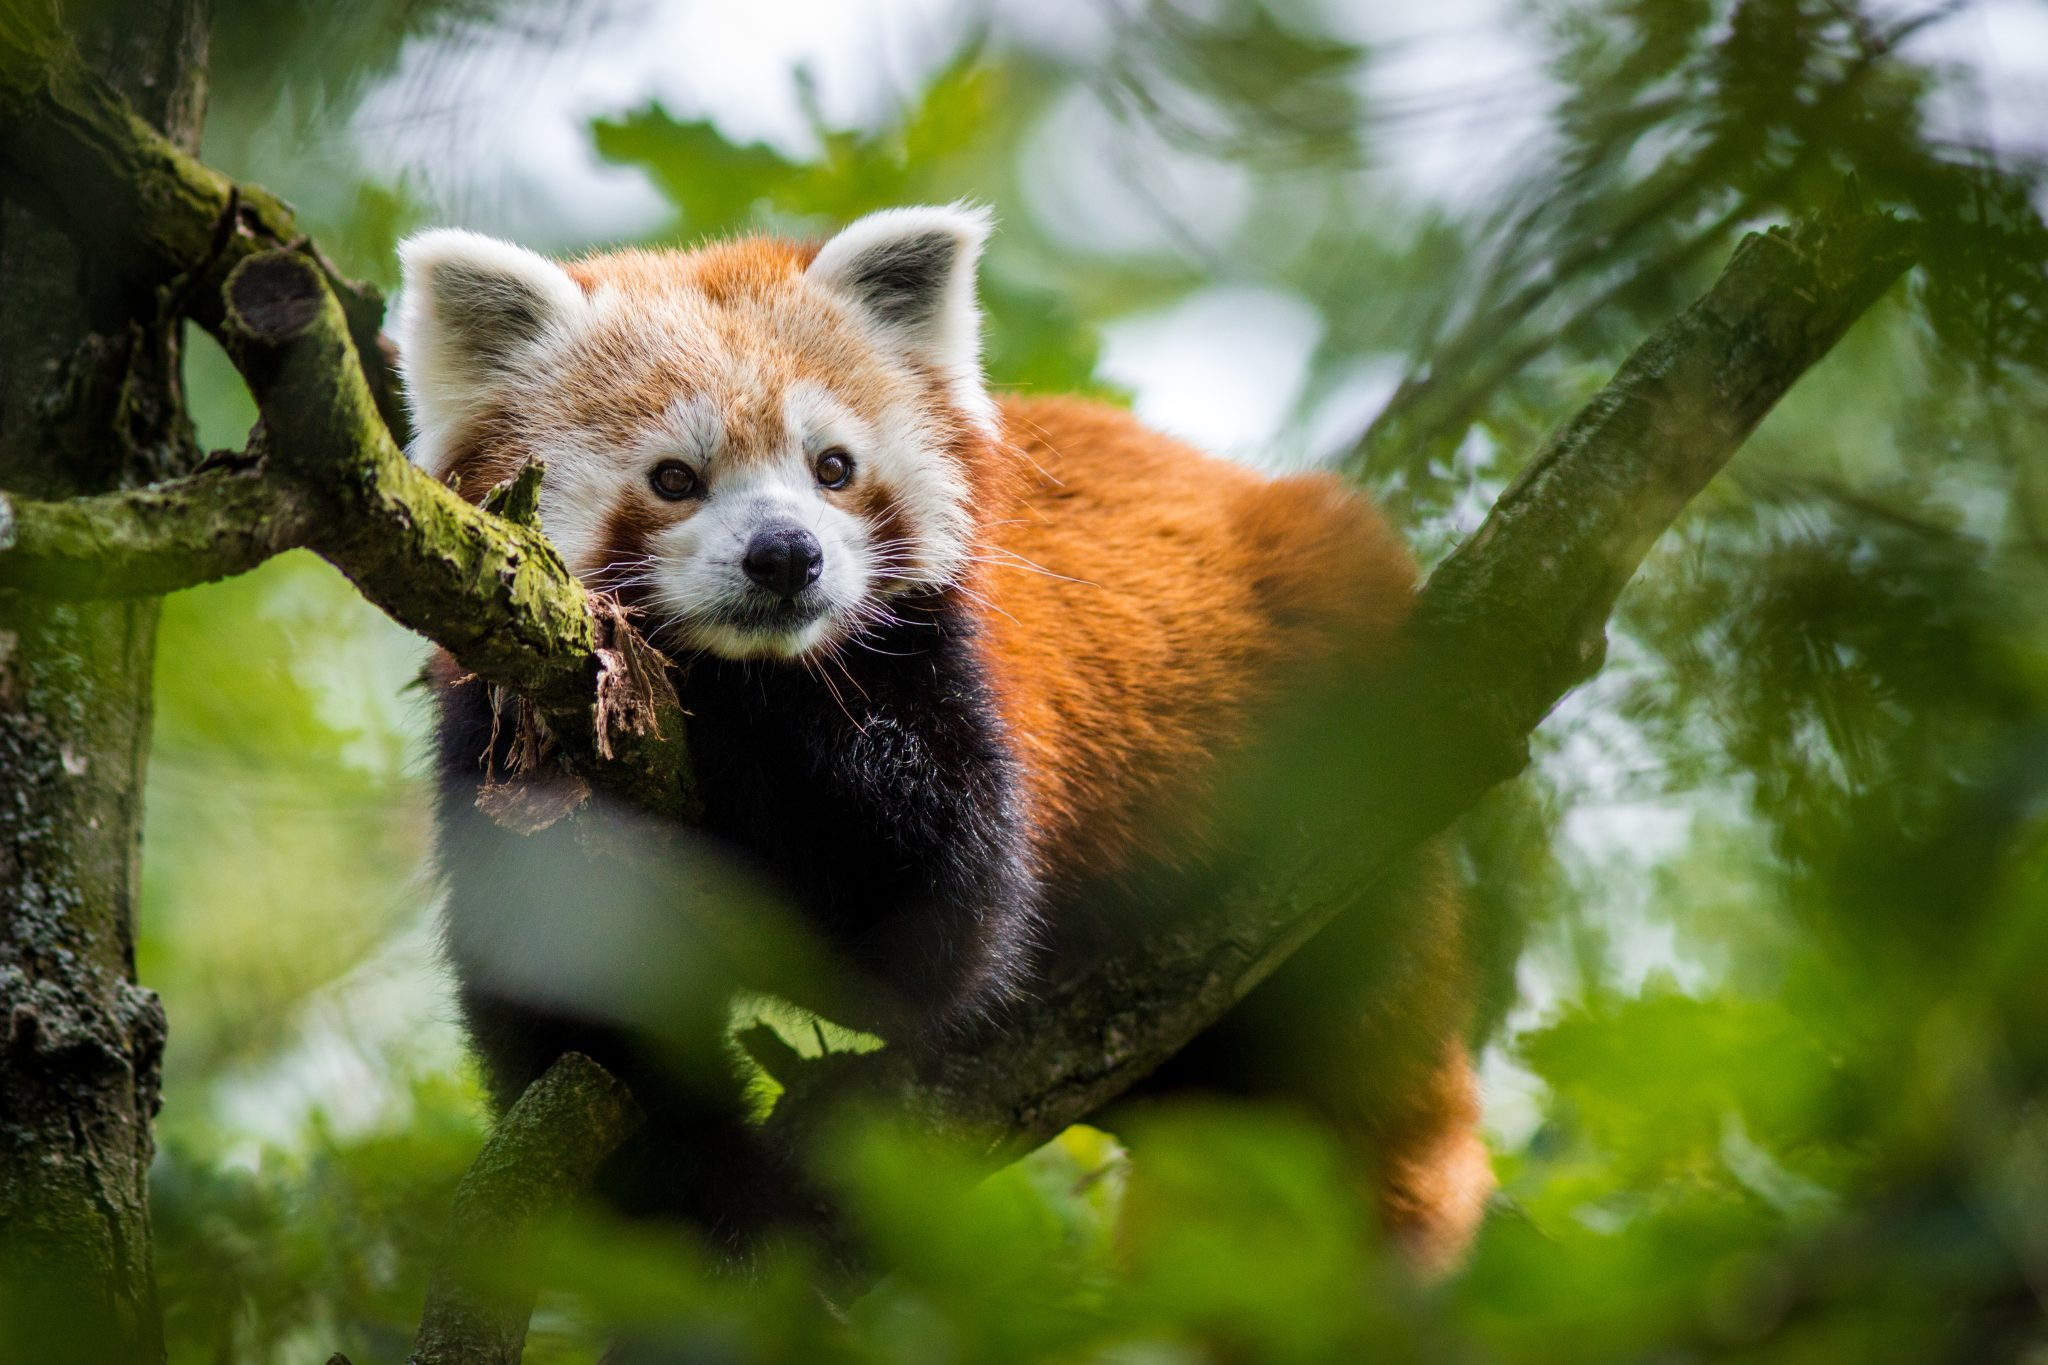Red panda: (388, 197, 1013, 667)
